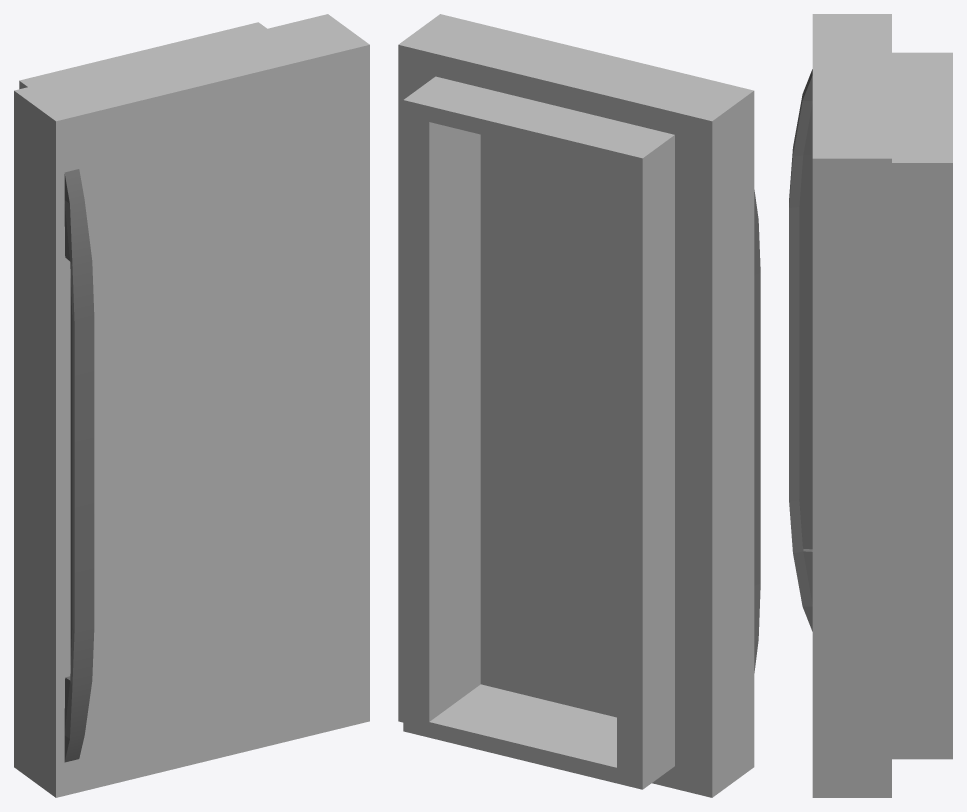
Rendered from Itr_Obj_Fridge1_Top_Door_Right_01.FBX.
3 views of the same model, side by side, from view 1: azimuth 30°, elevation 25°; view 2: azimuth 150°, elevation 25°; view 3: azimuth 270°, elevation 25° (orthographic). The views are drawn at different scales.
Parts seen in each view (by area): view 1: Itr_Obj_Fridge1_Top_Door_Right_01; view 2: Itr_Obj_Fridge1_Top_Door_Right_01; view 3: Itr_Obj_Fridge1_Top_Door_Right_01.
Boxes of the visible parts, left/top/right/bottom form: Itr_Obj_Fridge1_Top_Door_Right_01: left=14, top=14, right=369, bottom=797; Itr_Obj_Fridge1_Top_Door_Right_01: left=398, top=14, right=760, bottom=797; Itr_Obj_Fridge1_Top_Door_Right_01: left=789, top=14, right=952, bottom=797.
Size of the model in its own units: 22.45 by 46.23 by 10.74.
